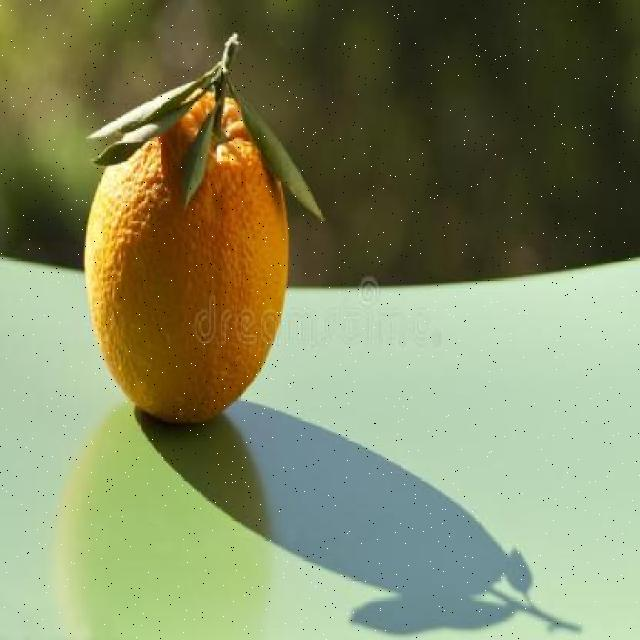Orange: (82, 87, 290, 424)
